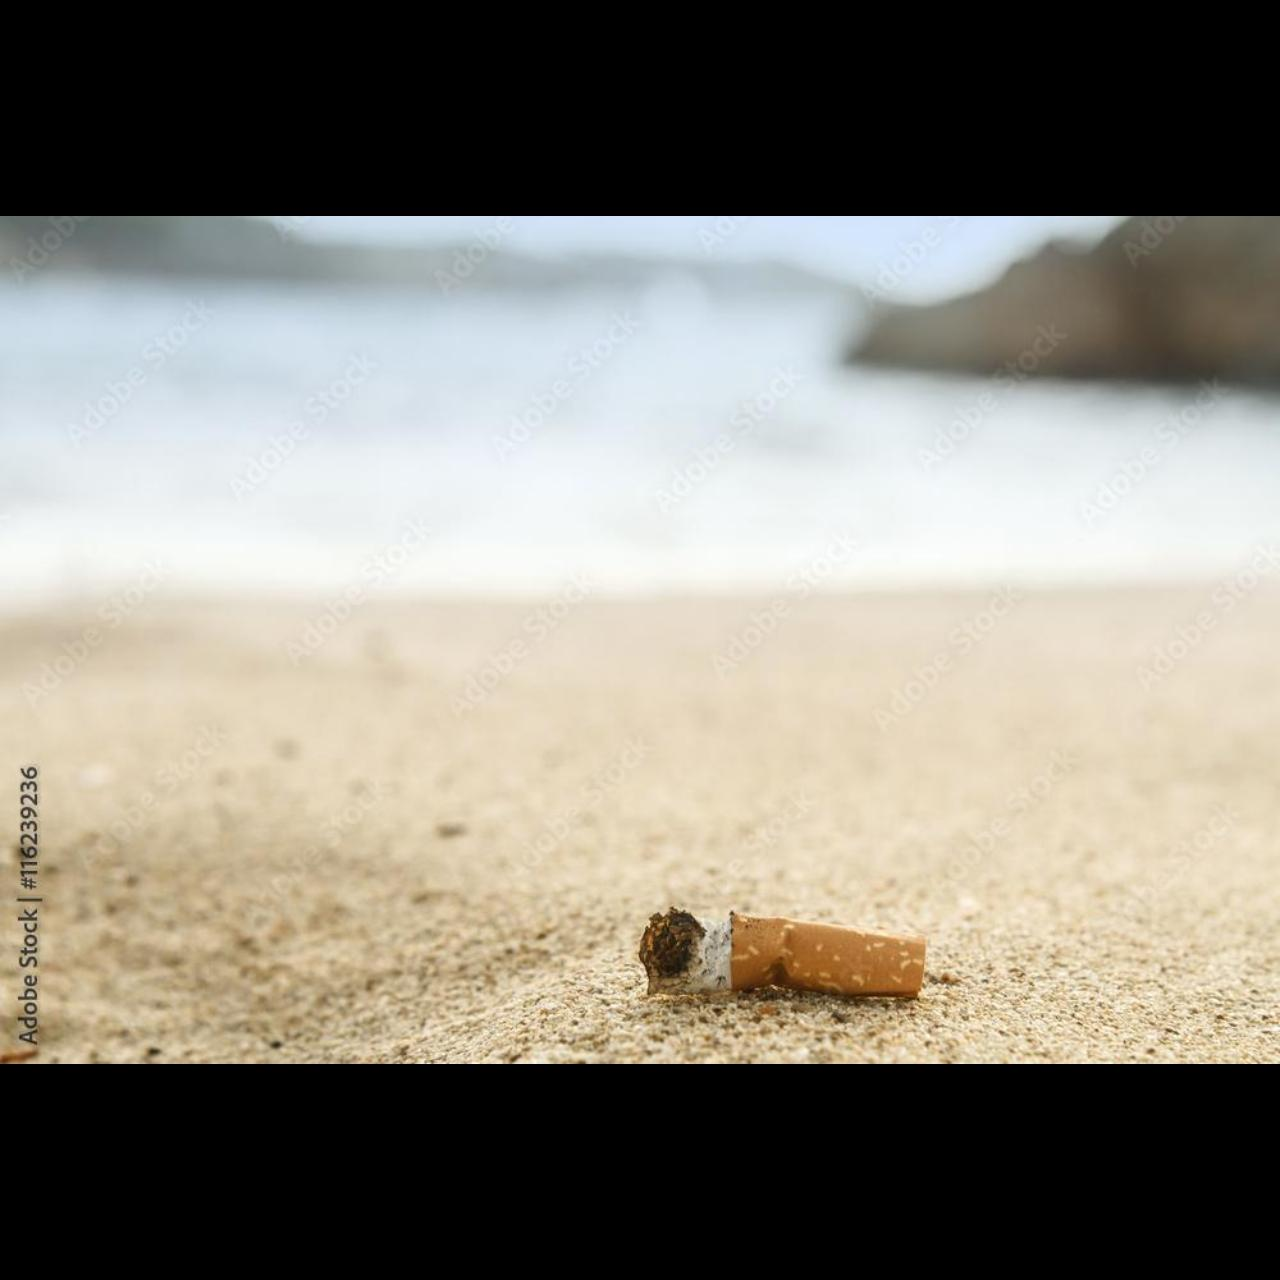cigarettes_butts: (638, 906, 927, 998)
